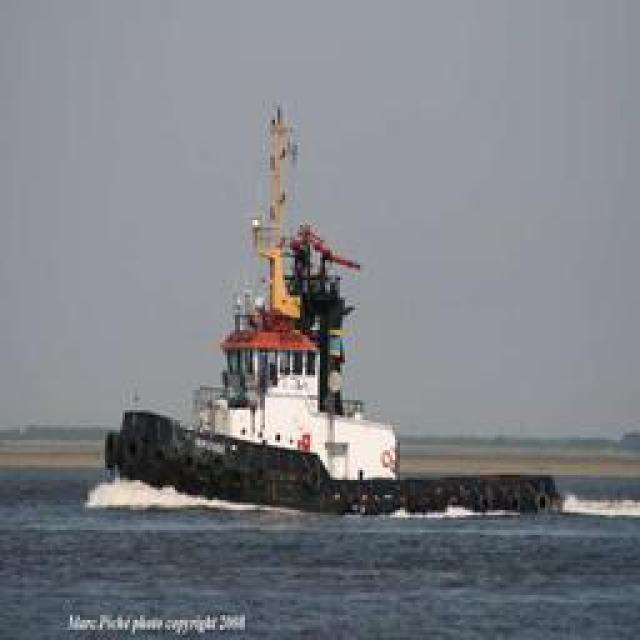CIV_Ship: (115, 111, 398, 504)
